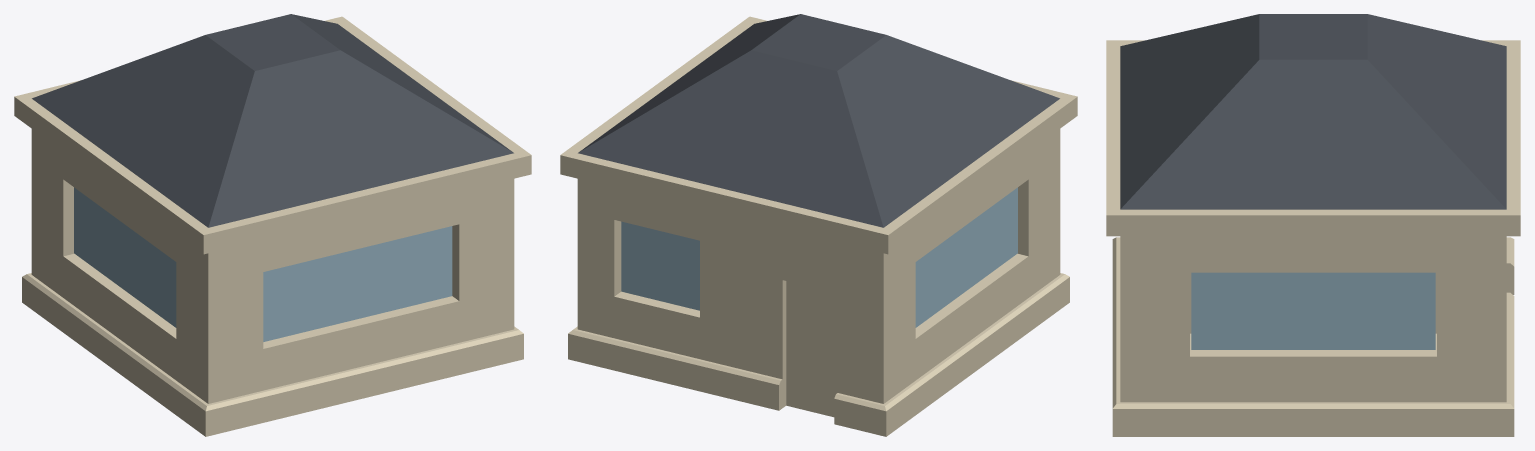
3 renders of one model, left to right at view 1: azimuth 30°, elevation 25°; view 2: azimuth 150°, elevation 25°; view 3: azimuth 270°, elevation 25°, orthographic. The views are drawn at different scales.
Parts seen in each view (by area): view 1: roof_slate, body_plaster, trim_plaster, glass_glass (×2); view 2: body_plaster, roof_slate, trim_plaster, glass_glass (×2); view 3: roof_slate, body_plaster, trim_plaster, glass_glass.
Part boxes in pixels (left/top/right/bottom): roof_slate: left=32, top=14, right=513, bottom=227; body_plaster: left=31, top=129, right=514, bottom=403; trim_plaster: left=14, top=16, right=531, bottom=436; glass_glass (×2): left=74, top=187, right=452, bottom=341; body_plaster: left=577, top=129, right=1060, bottom=417; roof_slate: left=578, top=14, right=1059, bottom=227; trim_plaster: left=560, top=16, right=1077, bottom=436; glass_glass (×2): left=621, top=187, right=1017, bottom=327; roof_slate: left=1120, top=14, right=1506, bottom=209; body_plaster: left=1120, top=236, right=1506, bottom=402; trim_plaster: left=1106, top=40, right=1520, bottom=436; glass_glass: left=1191, top=272, right=1435, bottom=349.
Size of what is drawn, in the model's own units: 5.36 by 4.5 by 5.36.
